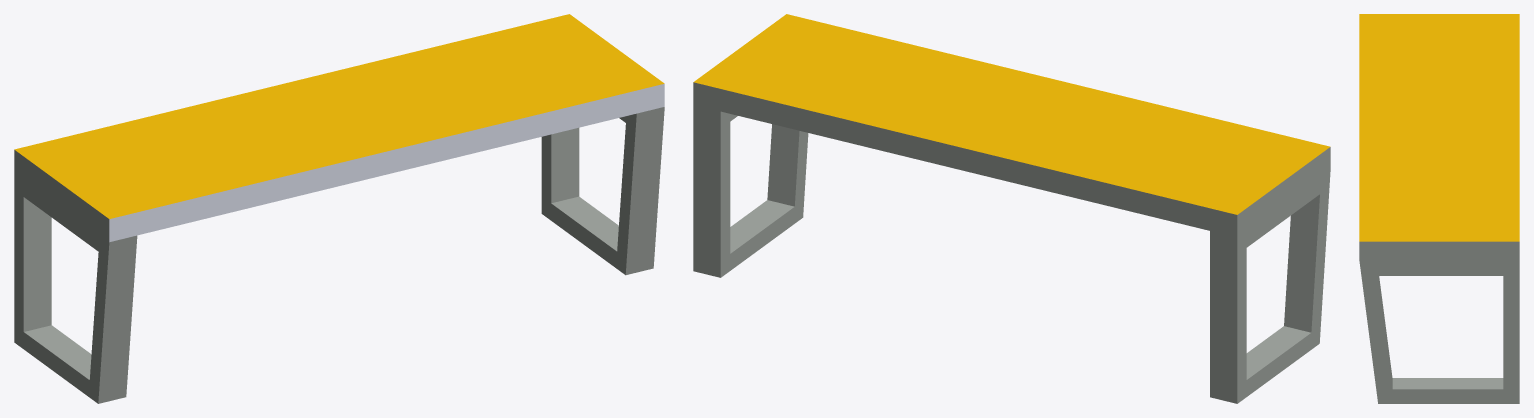
The model's file is Bench.fbx.
The picture shows the model from 3 angles, left to right: view 1: azimuth 30°, elevation 25°; view 2: azimuth 150°, elevation 25°; view 3: azimuth 270°, elevation 25°; orthographic projection. The views are drawn at different scales.
Parts seen in each view (by area): view 1: RealBench; view 2: RealBench; view 3: RealBench.
Part boxes in pixels (left/top/right/bottom): RealBench: left=14, top=14, right=664, bottom=403; RealBench: left=693, top=14, right=1330, bottom=403; RealBench: left=1359, top=14, right=1519, bottom=403.
Size of the model in its own units: 133 by 44.3 by 39.63.
